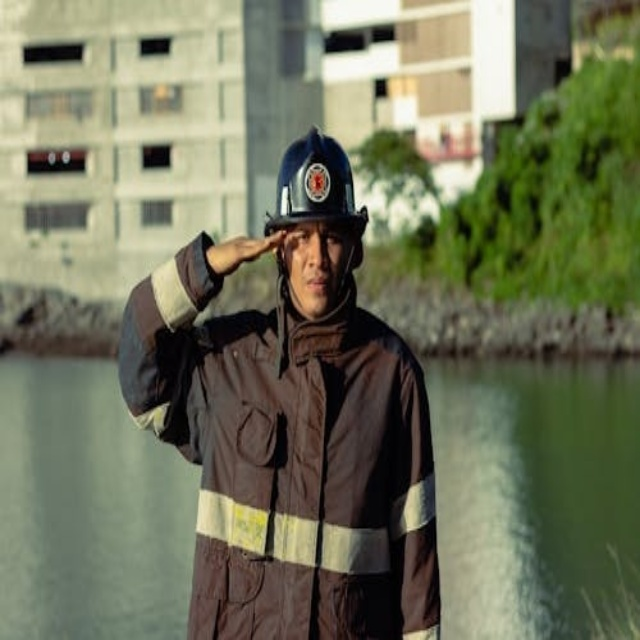Sin_gafas: (286, 225, 350, 252)
Sin_guantes: (207, 211, 285, 271)
Sin_mascara: (300, 271, 333, 306)
